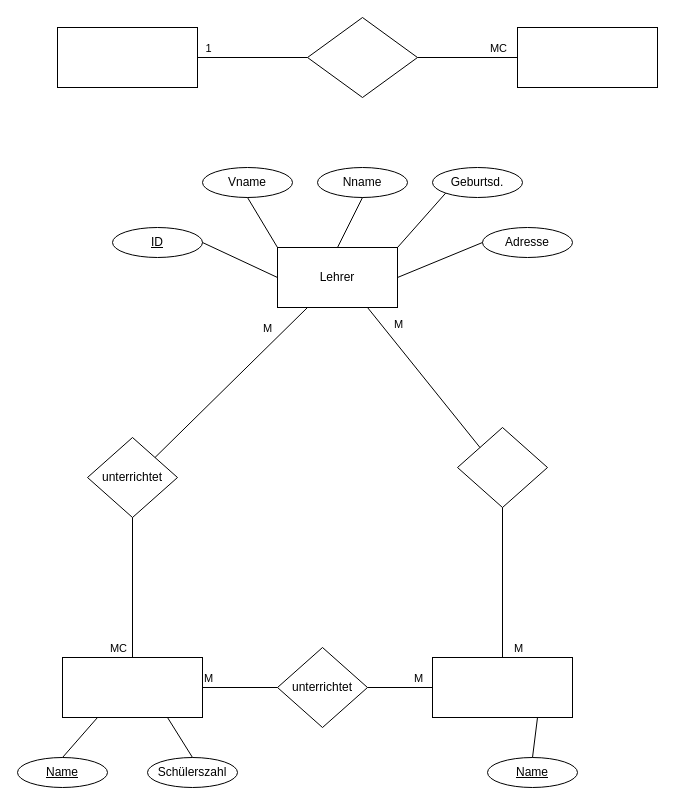
This 675x805 diagram has some shape labels left out. Each missing label, with the centre of its shape:
"Druckaufträge" goes at (x=587, y=57).
"Fach" goes at (x=502, y=687).
"hat Lehrbefähigung" goes at (x=502, y=467).
"Klasse" goes at (x=132, y=687).
"Mitarbeiter" goes at (x=127, y=57).
